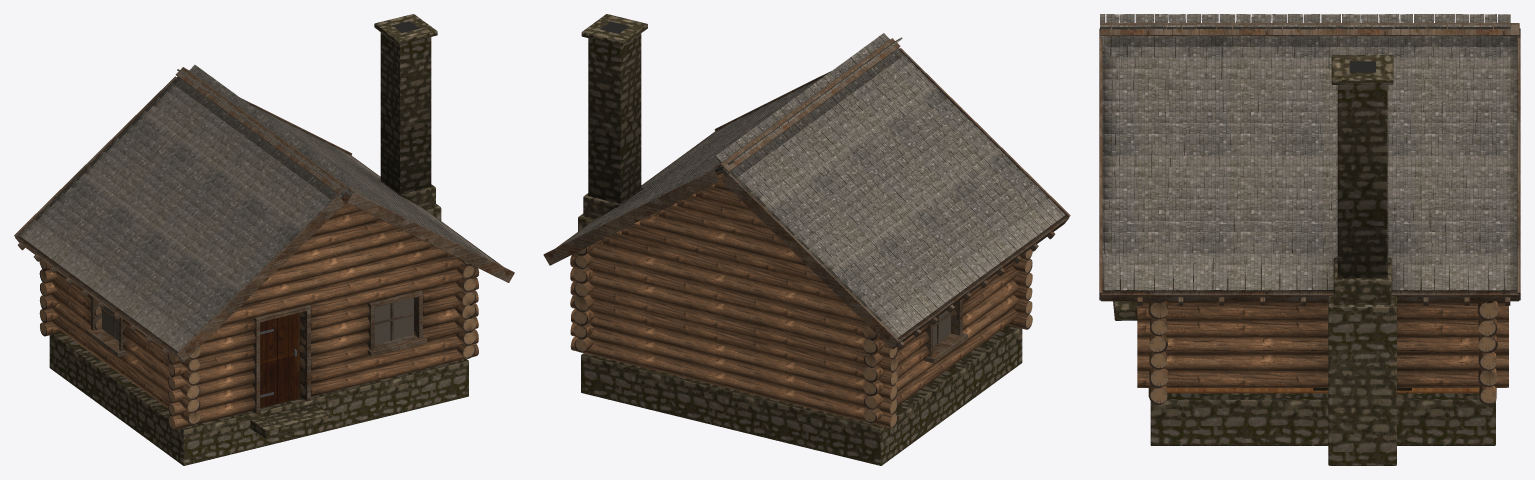
File: cabin.glb
3 views of the same model, side by side, from view 1: azimuth 30°, elevation 25°; view 2: azimuth 150°, elevation 25°; view 3: azimuth 270°, elevation 25° (orthographic). The views are drawn at different scales.
Visible parts, largest first — view 1: shingles, logs, stone, boards, door, glass_front; view 2: shingles, logs, stone, boards; view 3: shingles, stone, logs, boards, floor.
Boxes of the visible parts, x1,y1,x2,y2 form: shingles: (19,65,499,351); logs: (39,195,479,430); stone: (49,14,468,465); boards: (14,67,514,413); door: (260,312,299,407); glass_front: (374,298,413,344); shingles: (560,33,1065,338); logs: (570,173,1032,428); stone: (578,14,1022,465); boards: (543,38,1070,363); shingles: (1100,14,1519,291); stone: (1113,55,1495,465); logs: (1137,301,1508,404); boards: (1099,23,1520,305); floor: (1167,388,1479,393).
Bounding box in the file's own units: 7.96 × 6.56 × 6.39.
10 materials, 7 textured.
